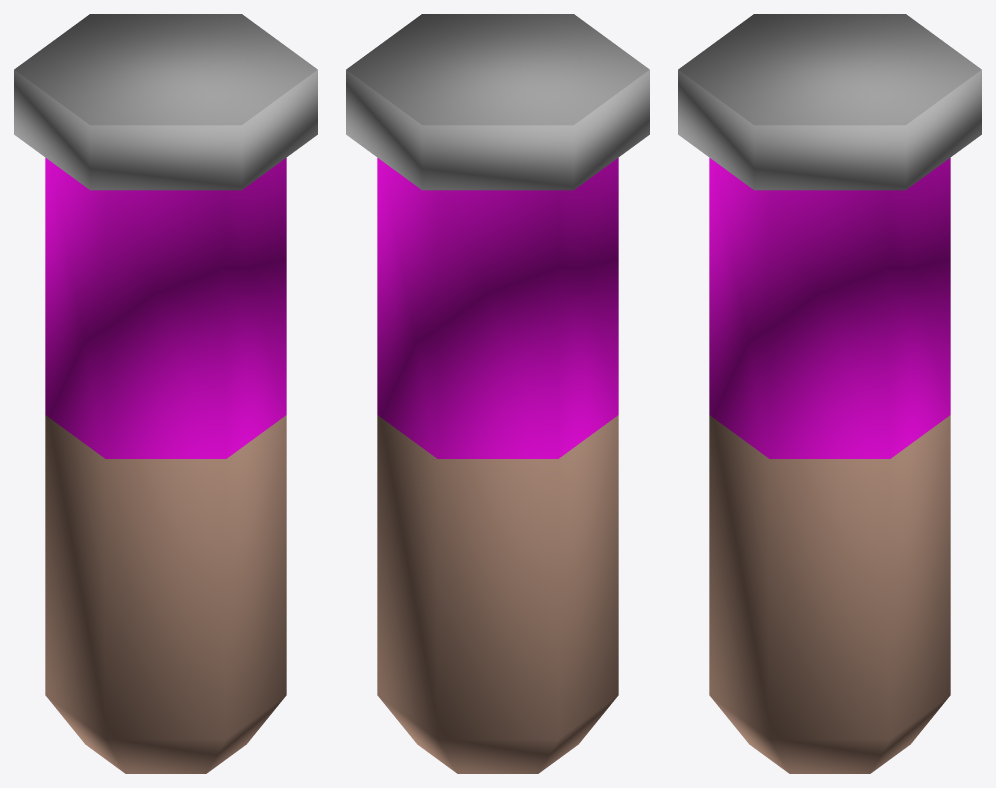
File: Coin Extract VialBronze.fbx
3 renders of one model, left to right at view 1: azimuth 30°, elevation 25°; view 2: azimuth 150°, elevation 25°; view 3: azimuth 270°, elevation 25°, orthographic.
Visible parts, largest first — view 1: Cylinder; view 2: Cylinder; view 3: Cylinder.
Part boxes in pixels (bbox=[...]): Cylinder: bbox=[14, 14, 317, 773]; Cylinder: bbox=[346, 14, 649, 773]; Cylinder: bbox=[678, 14, 981, 773].
Size of the model in its own units: 218 by 617 by 252.
